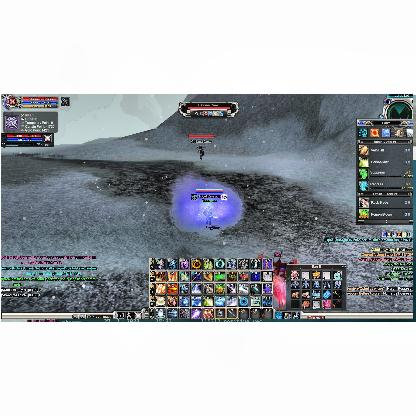caliana: (196, 144, 204, 160)
